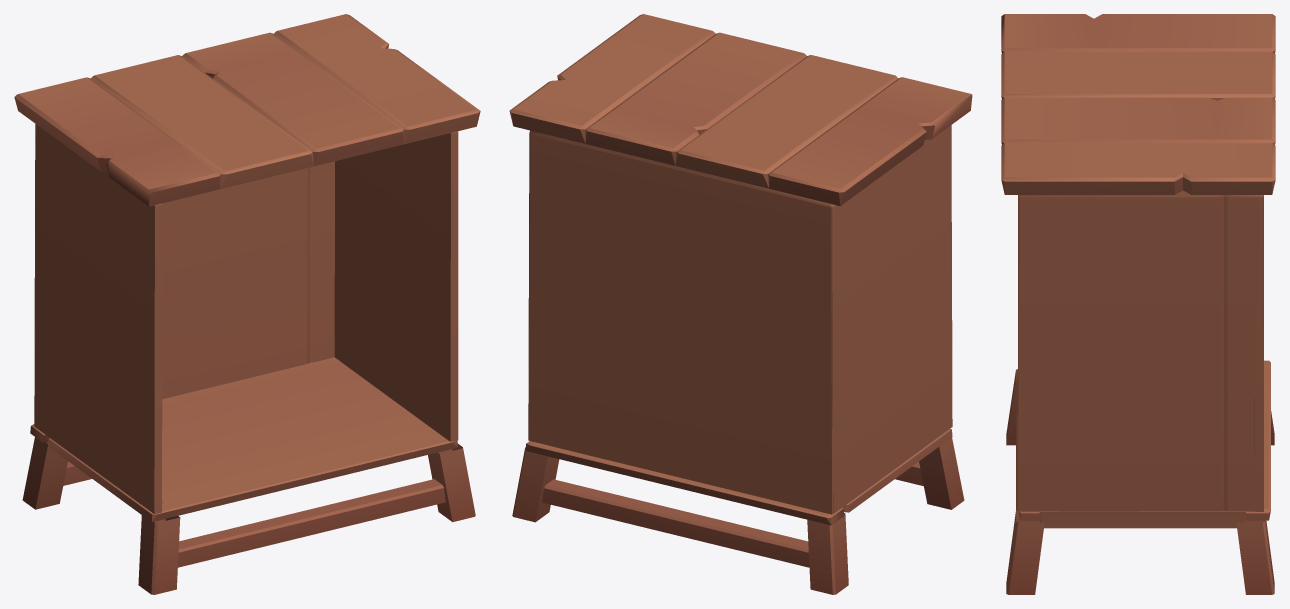
Rendered from closet.glb.
3 views of the same model, side by side, from view 1: azimuth 30°, elevation 25°; view 2: azimuth 150°, elevation 25°; view 3: azimuth 270°, elevation 25° (orthographic). The views are drawn at different scales.
Parts seen in each view (by area): view 1: closet; view 2: closet; view 3: closet.
Boxes of the visible parts, x1=… form: closet: x1=14, y1=14, x2=480, y2=594; closet: x1=509, y1=14, x2=972, y2=594; closet: x1=1001, y1=14, x2=1275, y2=594.
Size of the model in its own units: 4.14 by 4.8 by 2.86.
1 material, 1 textured.
